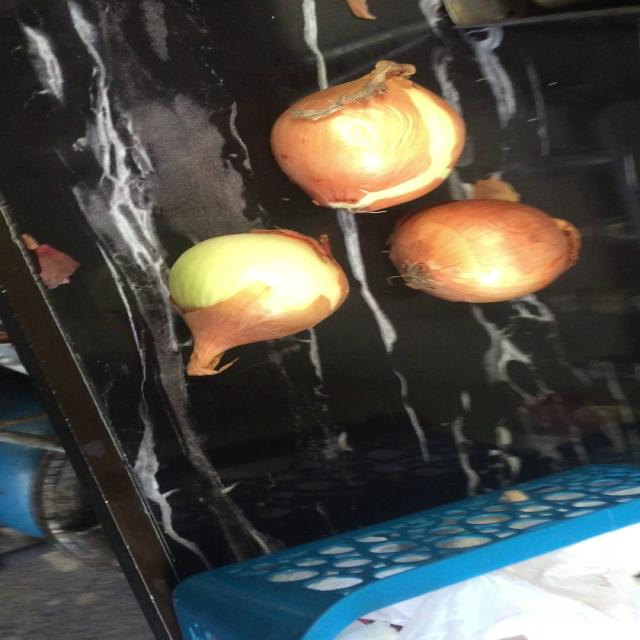Onion: (271, 60, 465, 212), (168, 230, 348, 376), (389, 199, 581, 303)
